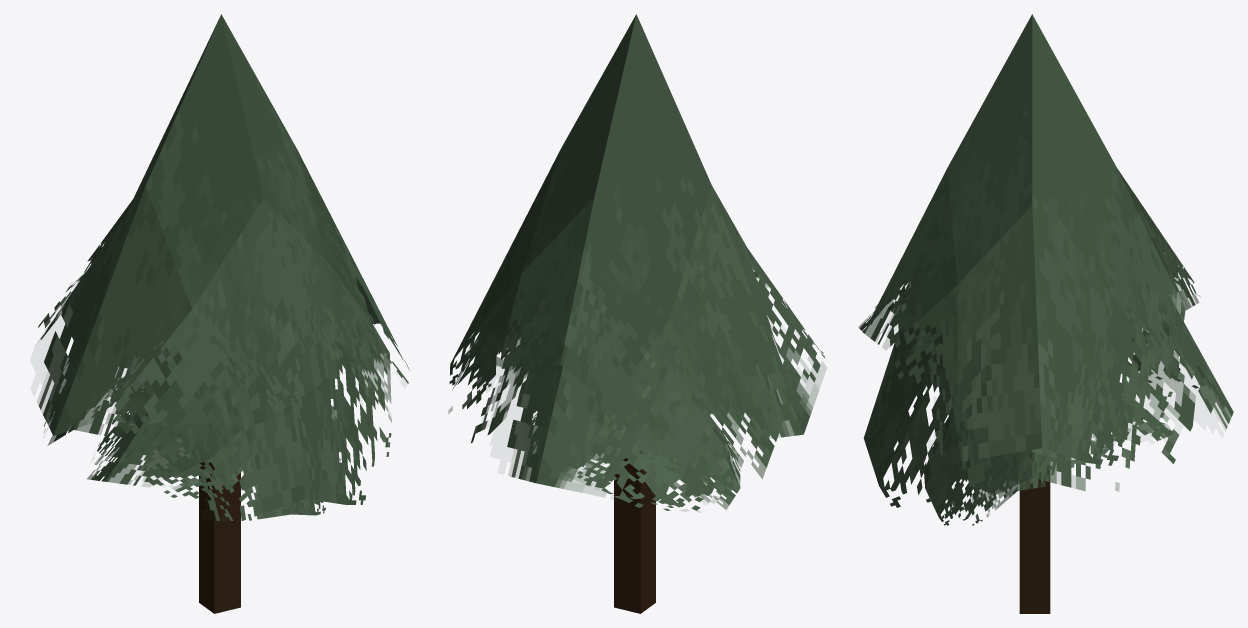
The model's file is tree.glb.
The picture shows the model from 3 angles, left to right: view 1: azimuth 30°, elevation 25°; view 2: azimuth 150°, elevation 25°; view 3: azimuth 270°, elevation 25°; orthographic projection.
Visible parts, largest first — view 1: TreeTrunk; view 2: TreeTrunk; view 3: TreeTrunk.
Boxes of the visible parts, box(x1,y1,x2,y2) form: TreeTrunk: box(35, 14, 409, 613); TreeTrunk: box(448, 14, 826, 613); TreeTrunk: box(858, 14, 1233, 613).
Bounding box in the file's own units: 2.68 × 4.5 × 2.59.
Materials: 2 (1 with a texture image).
